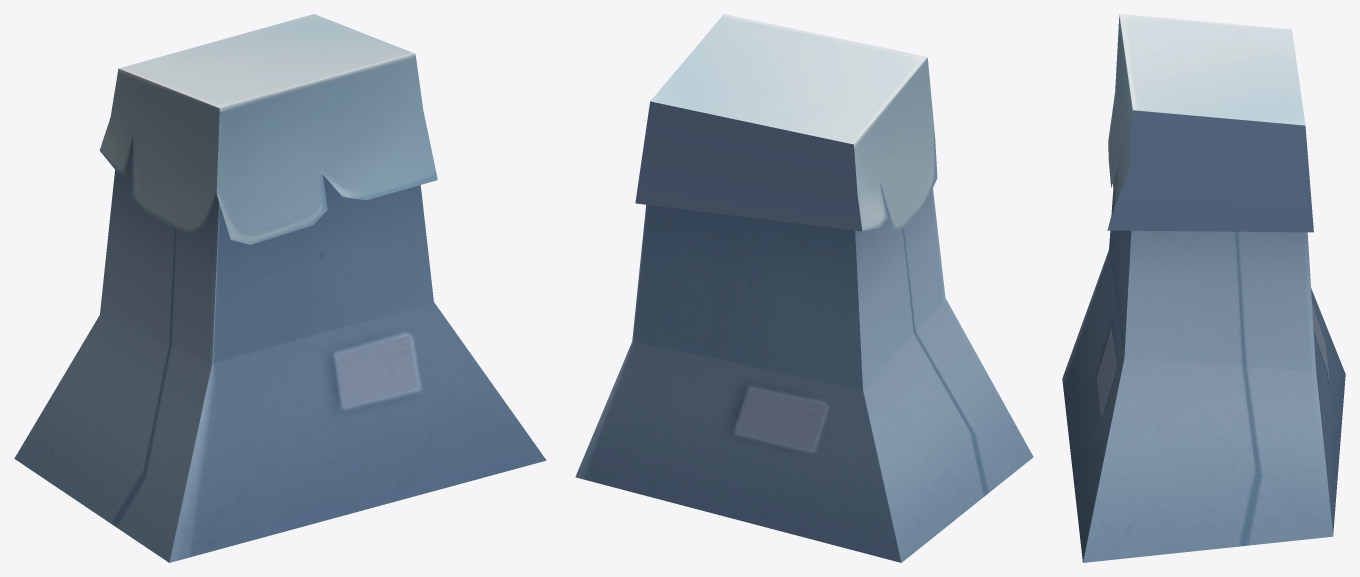
Rendered from yc_gy_shanti05.FBX.
3 views of the same model, side by side, from view 1: azimuth 30°, elevation 25°; view 2: azimuth 150°, elevation 25°; view 3: azimuth 270°, elevation 25° (orthographic). The views are drawn at different scales.
Visible parts, largest first — view 1: yc_gy_shanti05; view 2: yc_gy_shanti05; view 3: yc_gy_shanti05.
Boxes of the visible parts, bbox=[...] form: yc_gy_shanti05: bbox=[14, 14, 546, 562]; yc_gy_shanti05: bbox=[575, 14, 1033, 562]; yc_gy_shanti05: bbox=[1062, 14, 1345, 562].
Bounding box in the file's own units: 1368 × 1360 × 868.
